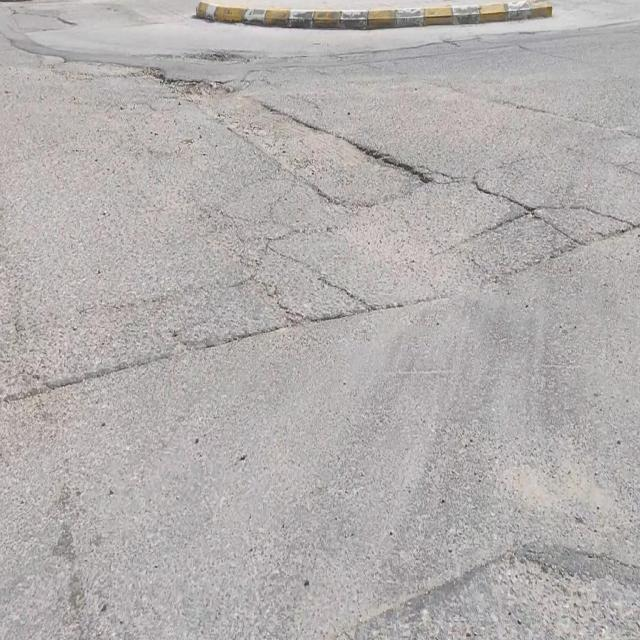Potholes: (266, 127, 435, 210)
